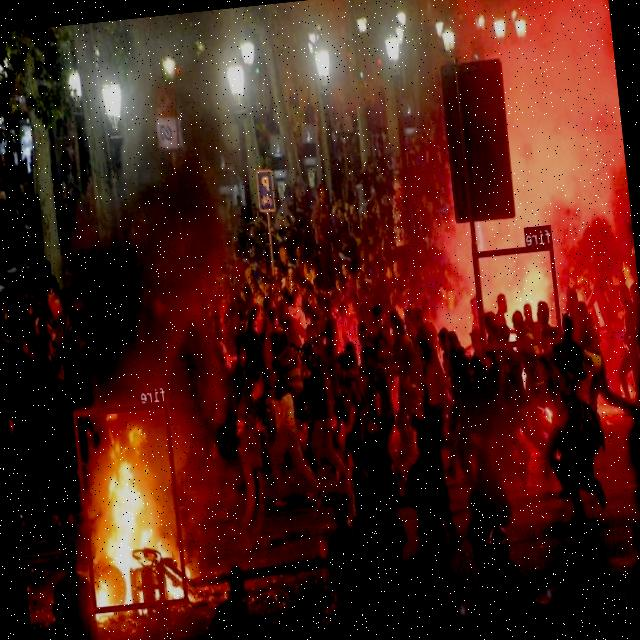fire: (74, 402, 188, 612), (472, 242, 563, 348)
